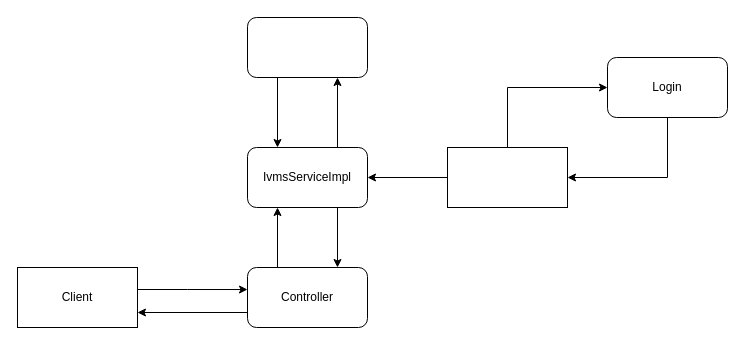
This 745x345 diagram has some shape labels left out. The shapes that lost their labels are listed below. From the top down, each one's box as (x1, y1, x2, y2) in pixels, then its label:
(246, 16, 368, 78): CallApiRetry
(446, 146, 568, 208): SessionManager
